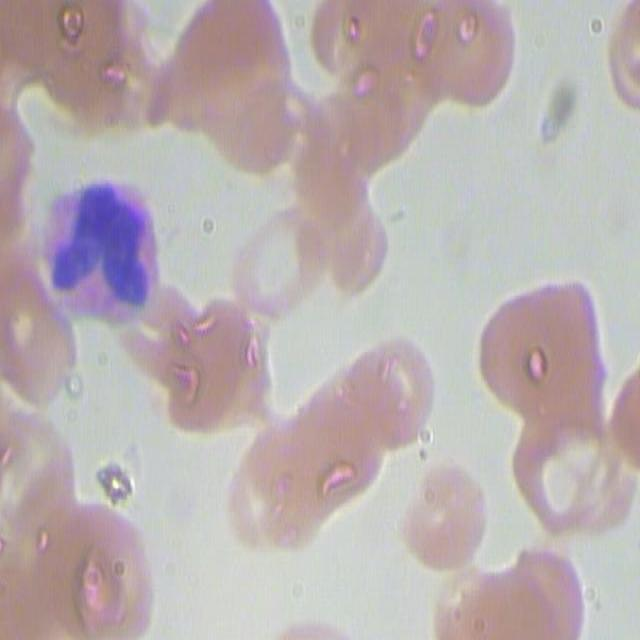RBC: (157, 0, 297, 174), (284, 0, 430, 158), (481, 278, 622, 425), (289, 334, 395, 528), (26, 0, 161, 139), (144, 287, 256, 442), (512, 401, 629, 542), (41, 501, 150, 640), (400, 1, 516, 114), (342, 328, 436, 451), (226, 207, 323, 326), (226, 431, 315, 558), (1, 418, 79, 560), (297, 176, 388, 296), (0, 276, 74, 414), (506, 537, 592, 638), (401, 461, 479, 569), (605, 0, 640, 115)
WBC: (32, 168, 182, 352)
